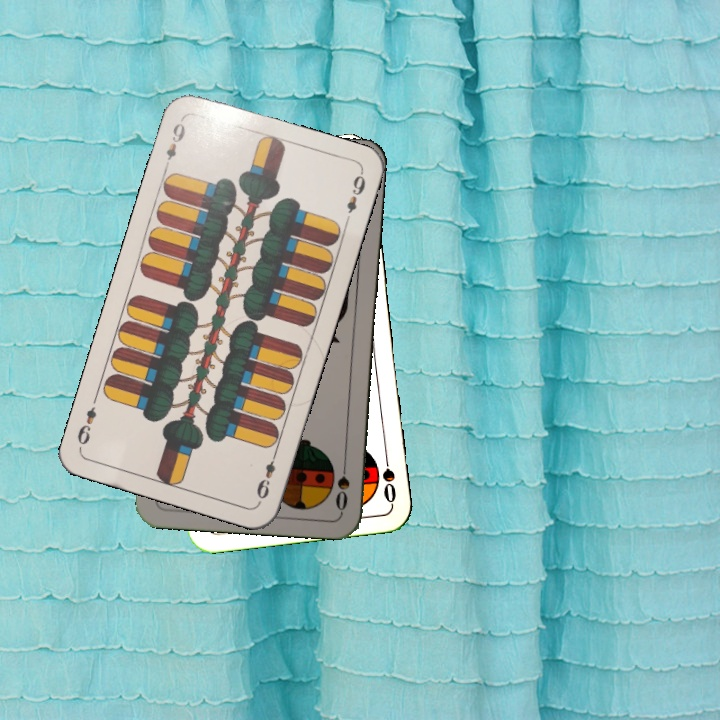E9: (252, 447, 280, 502), (161, 119, 188, 172)
SO: (374, 447, 399, 506), (331, 454, 352, 513)
